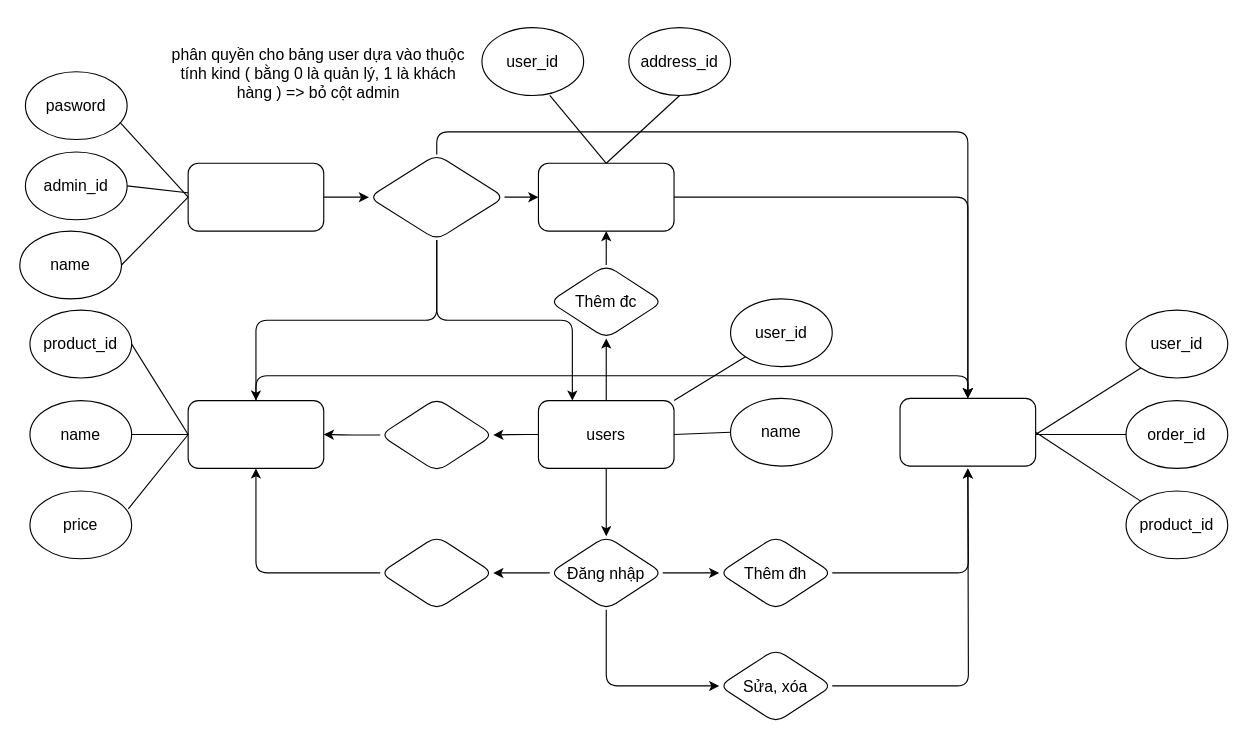
Image size: 1248x742. Some labels were removed from this diagram. Each missing label, with the centre of its shape:
"address" belongs at (x=605, y=196).
"admin" belongs at (x=255, y=196).
"Mua hàng" belongs at (x=436, y=572).
"orders" belongs at (x=967, y=431).
"products" belongs at (x=255, y=433).
"Thêm, xóa sửa" belongs at (x=436, y=196).
"Xem" belongs at (x=436, y=434).
